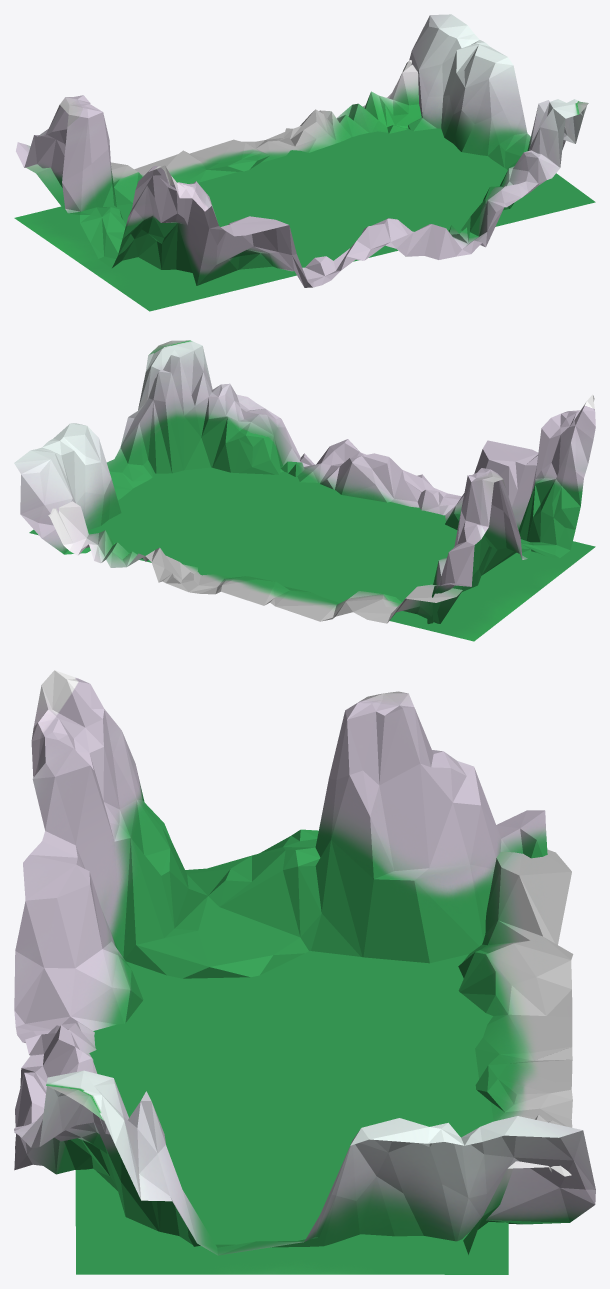
Rendered from Terrain.fbx.
The picture shows the model from 3 angles, top to bottom: view 1: azimuth 30°, elevation 25°; view 2: azimuth 150°, elevation 25°; view 3: azimuth 270°, elevation 25°; orthographic projection. The views are drawn at different scales.
Visible parts, largest first — view 1: Amusement_Scene_New_unity_266:Terrain; view 2: Amusement_Scene_New_unity_266:Terrain; view 3: Amusement_Scene_New_unity_266:Terrain.
Part boxes in pixels (x1,y1,x2,y2): Amusement_Scene_New_unity_266:Terrain: [14, 14, 595, 311]; Amusement_Scene_New_unity_266:Terrain: [14, 340, 595, 641]; Amusement_Scene_New_unity_266:Terrain: [14, 670, 595, 1274].
Size of the model in its own units: 60267 by 19271 by 40020.
